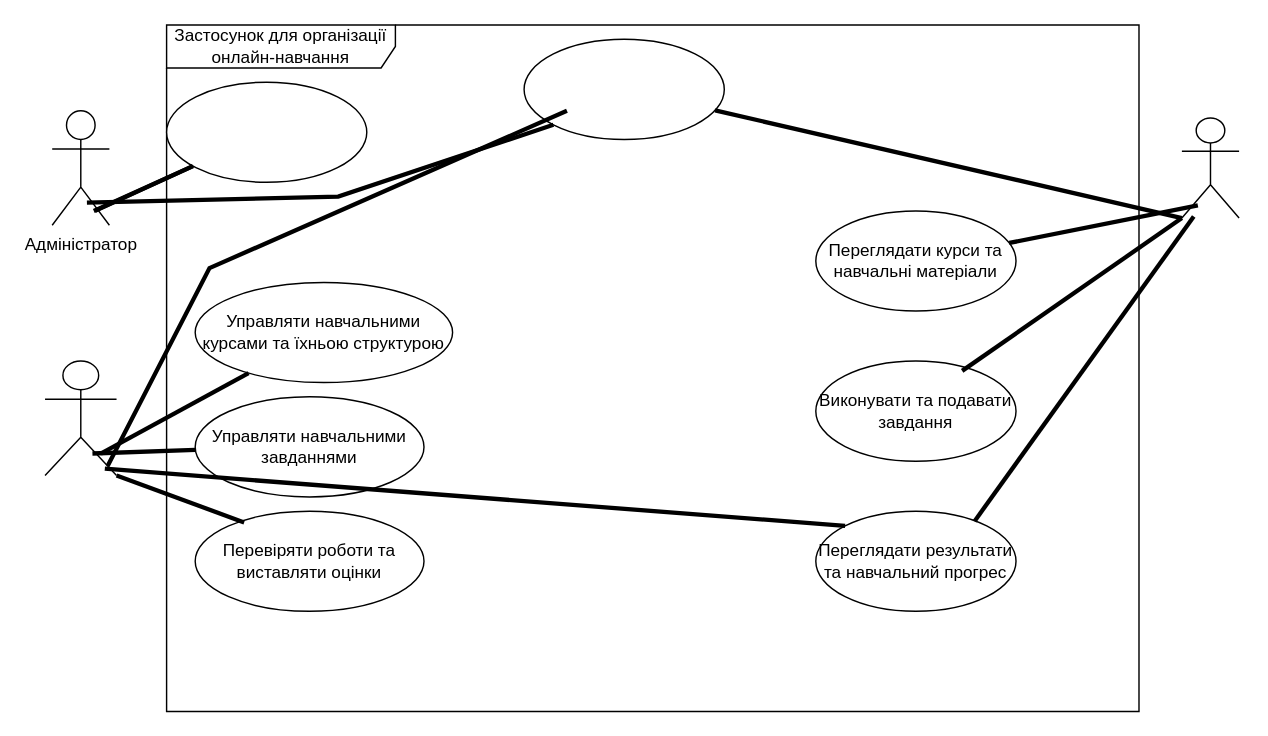
This 1268x736 diagram has some shape labels left out. Each missing label, with the centre of its shape:
"Авторизуватися в системі" goes at point 623,88.
"Викладач" goes at point 80,417.
"Студент" goes at point 1209,167.
"Управляти користувачами" goes at point 266,131.
